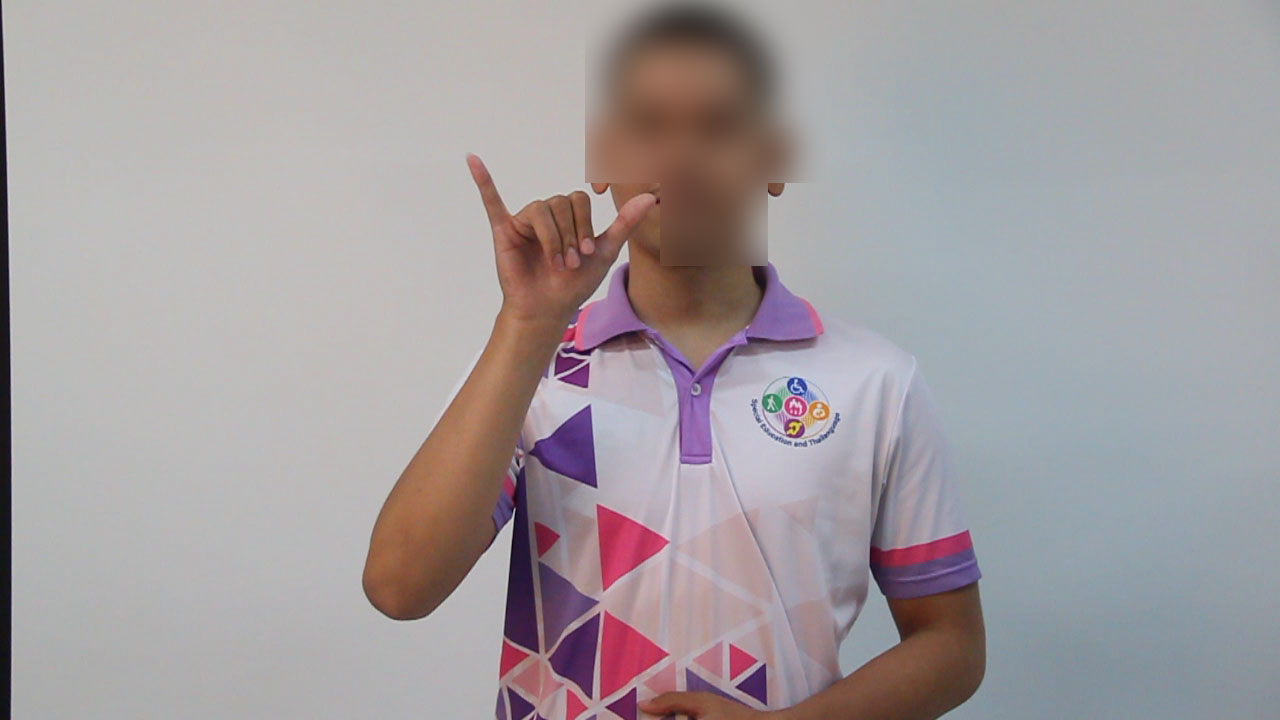yor: (441, 145, 667, 353)
